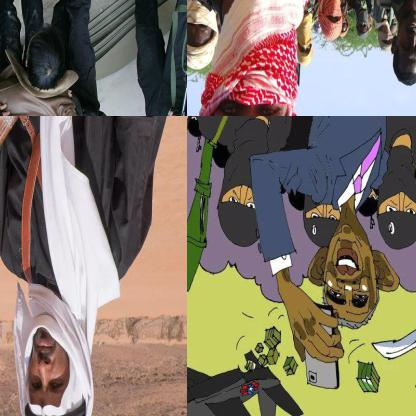knife: (370, 262, 415, 365)
rifle: (0, 116, 48, 326), (187, 137, 224, 292), (155, 70, 186, 115)
